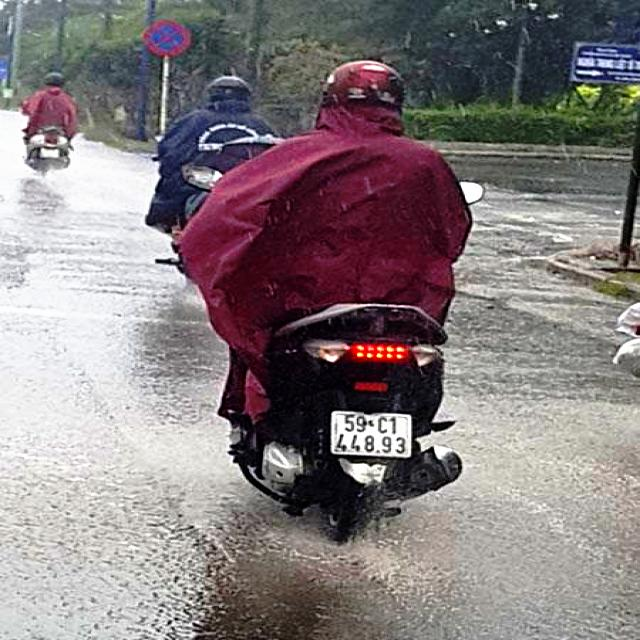license_plate: (331, 411, 416, 460)
